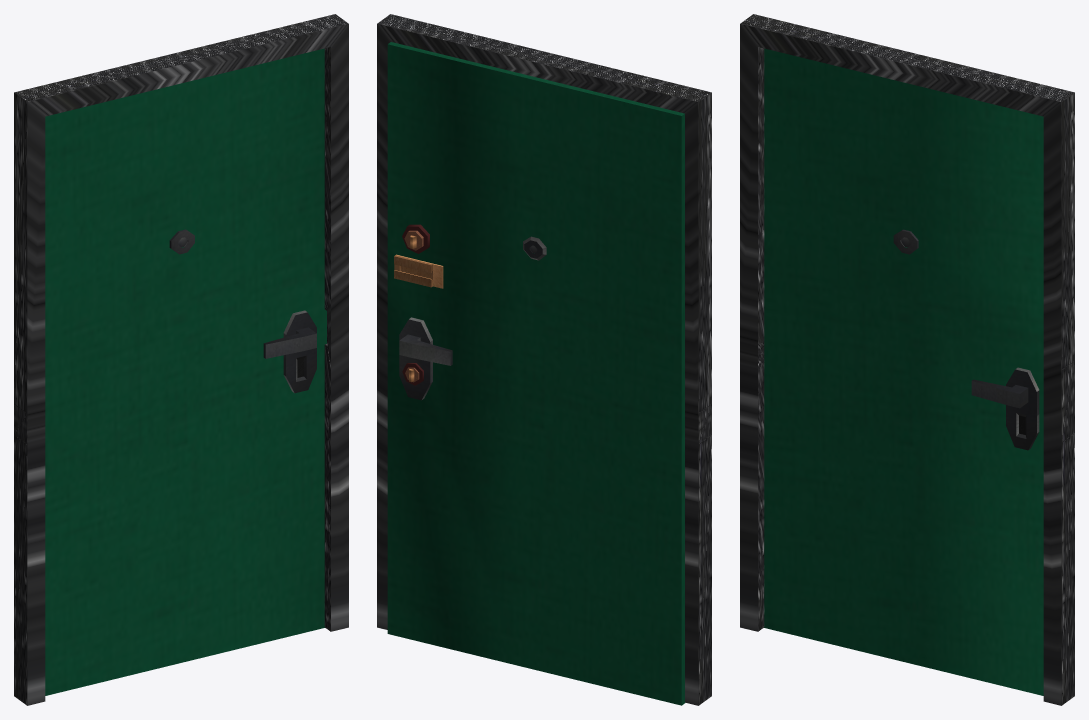
The model's file is door3.FBX.
3 views of the same model, side by side, from view 1: azimuth 30°, elevation 25°; view 2: azimuth 150°, elevation 25°; view 3: azimuth 330°, elevation 25° (orthographic).
Visible parts, largest first — view 1: Box001, Box006, Box002, e; view 2: Box001, Box006, Box002, Box008, e; view 3: Box001, Box006, Box002, e.
Boxes of the visible parts, x1,y1,x2,y2 form: Box001: (45,48,326,695); Box006: (14,14,348,705); Box002: (283,310,316,393); e: (263,327,316,358); Box001: (387,42,685,705); Box006: (377,14,711,705); Box002: (399,317,432,400); Box008: (394,254,443,288); e: (399,334,452,365); Box001: (764,48,1043,695); Box006: (740,14,1074,705); Box002: (1006,367,1039,450); e: (971,379,1028,408).
Bounding box in the file's own units: 109 × 196 × 19.17.
Materials: 10 (10 with a texture image).
